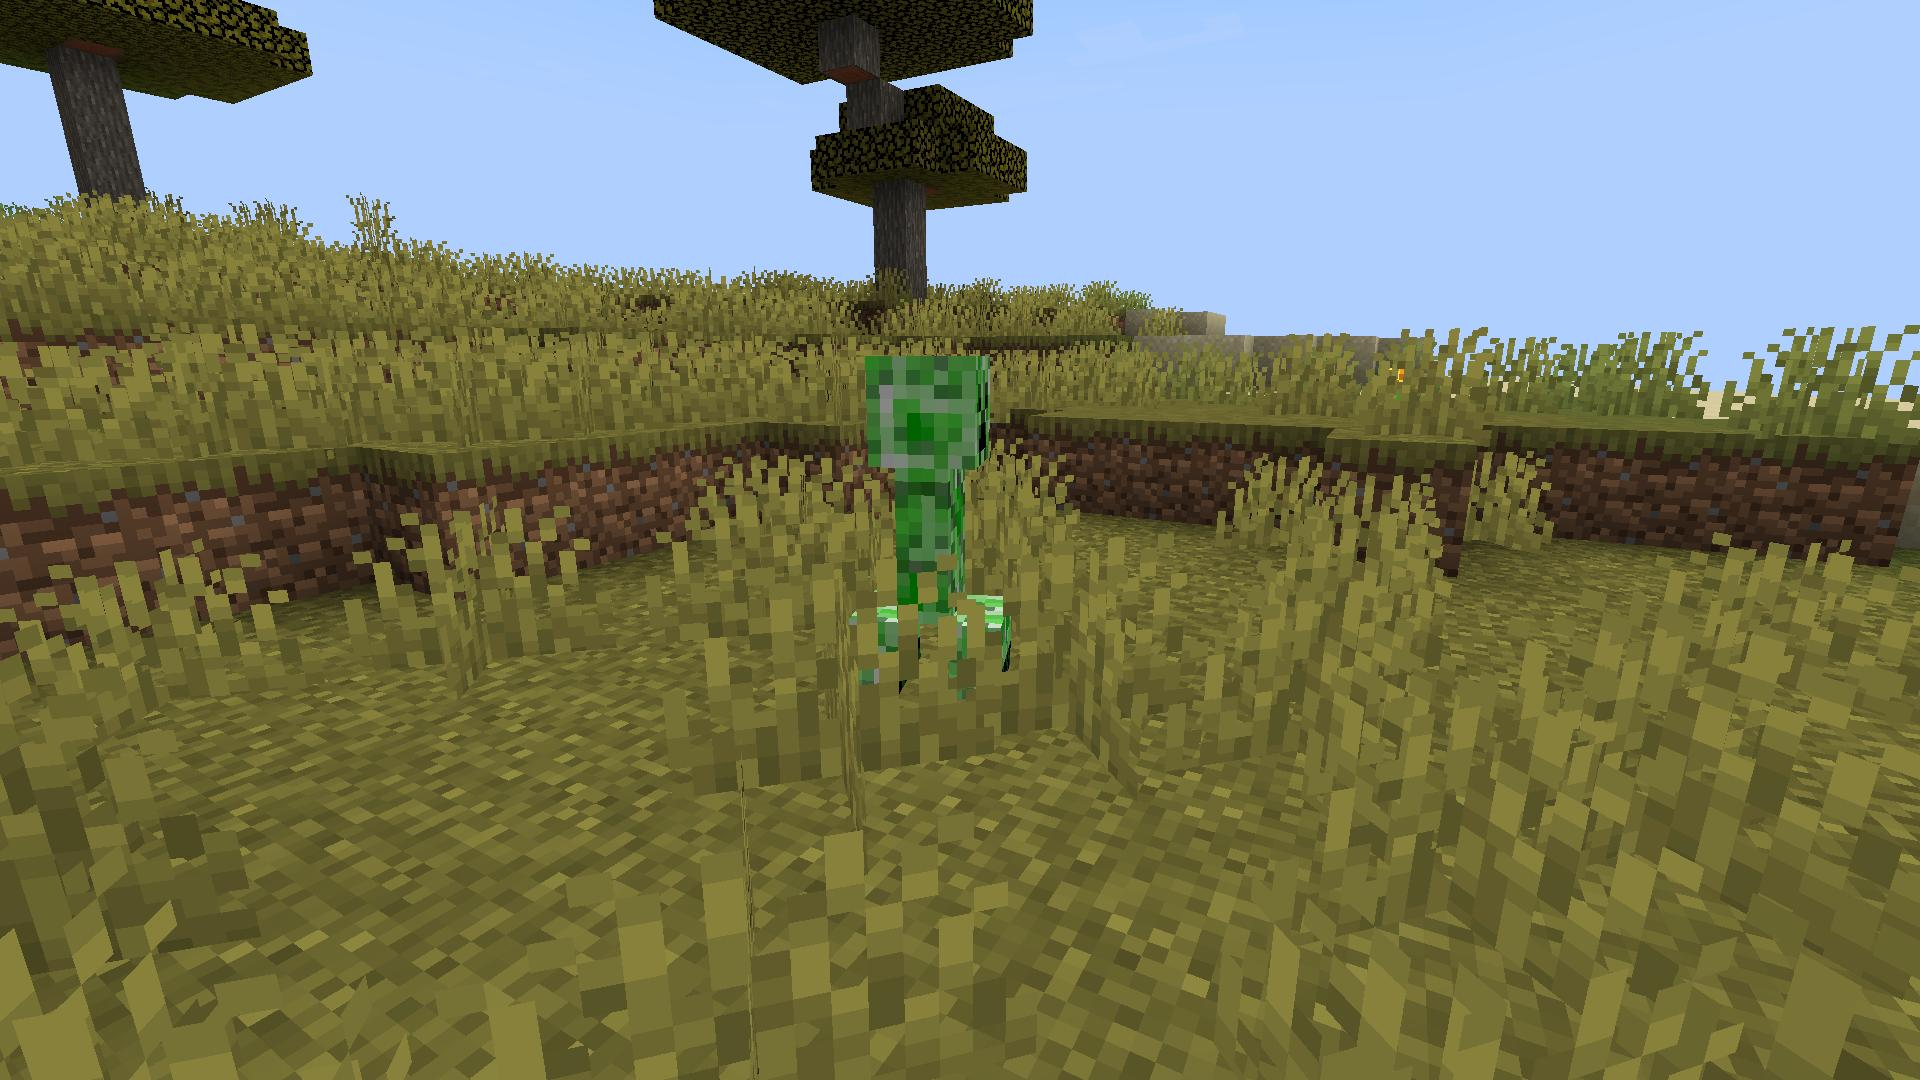creeper: (855, 347, 1025, 713)
